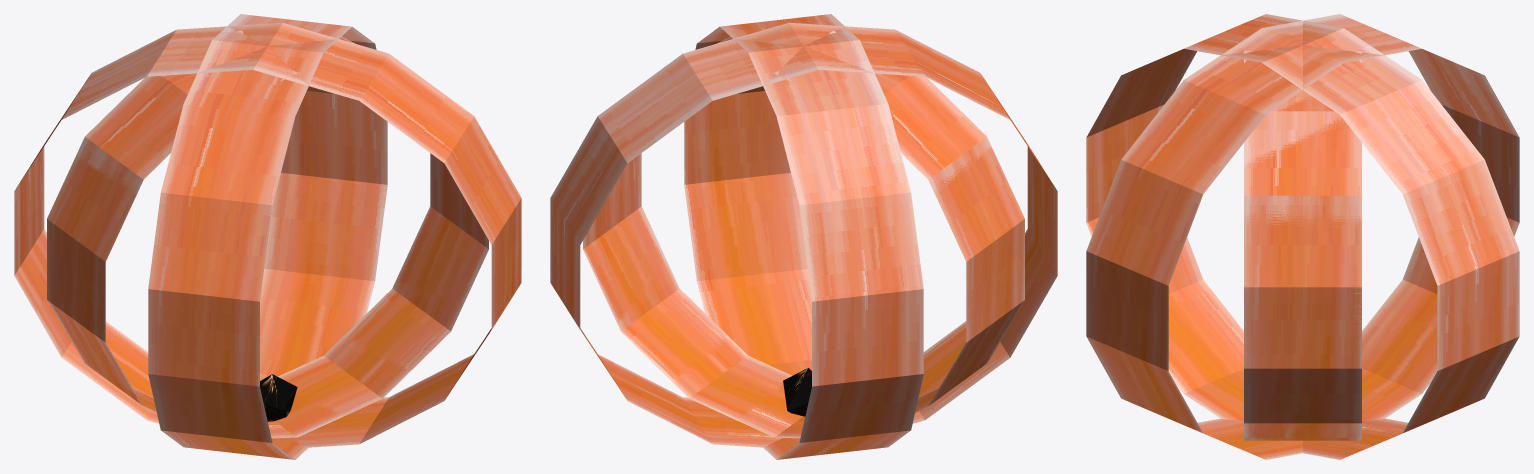
Rendered from gemeffect_male_armour_10006.obj.
The picture shows the model from 3 angles, left to right: view 1: azimuth 30°, elevation 25°; view 2: azimuth 150°, elevation 25°; view 3: azimuth 270°, elevation 25°; orthographic projection.
Visible parts, largest first — view 1: Sphere05, Sphere04, Sphere03, Sphere02, Sphere01; view 2: Sphere04, Sphere05, Sphere03, Sphere02, Sphere01; view 3: Sphere05, Sphere04, Sphere02, Sphere03.
Part boxes in pixels (bbox=[...]): Sphere05: bbox=[148, 14, 387, 459]; Sphere04: bbox=[14, 22, 521, 447]; Sphere03: bbox=[47, 30, 488, 437]; Sphere02: bbox=[47, 31, 476, 438]; Sphere01: bbox=[260, 374, 297, 421]; Sphere04: bbox=[684, 14, 923, 459]; Sphere05: bbox=[550, 22, 1057, 447]; Sphere03: bbox=[583, 30, 1024, 437]; Sphere02: bbox=[583, 31, 1024, 438]; Sphere01: bbox=[783, 367, 811, 416]; Sphere05: bbox=[1086, 14, 1519, 459]; Sphere04: bbox=[1086, 14, 1519, 459]; Sphere02: bbox=[1244, 50, 1361, 440]; Sphere03: bbox=[1244, 51, 1361, 438].
Size of the model in its own units: 20.27 by 19.27 by 19.75.
2 materials, 2 textured.
